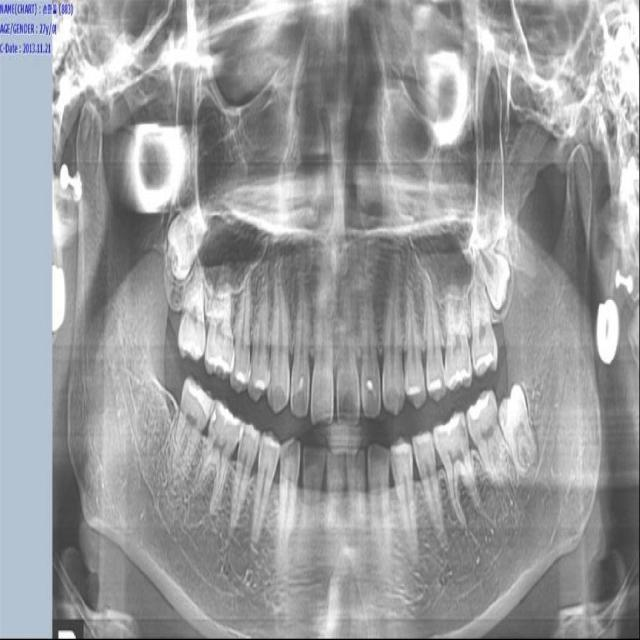Filling: (188, 382, 211, 420), (218, 401, 242, 426), (468, 394, 488, 421), (366, 379, 373, 391), (210, 409, 216, 422)
impacted tooth: (498, 384, 539, 472), (166, 195, 206, 279), (472, 231, 509, 310)
